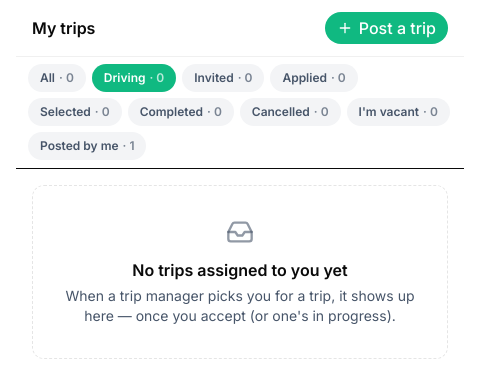
Test case: DriverActivityPage › the Posted tab lists the trips you posted yourself
Click the button "Posted by me · 1": coordinates (87, 146) [28,132,146,160]
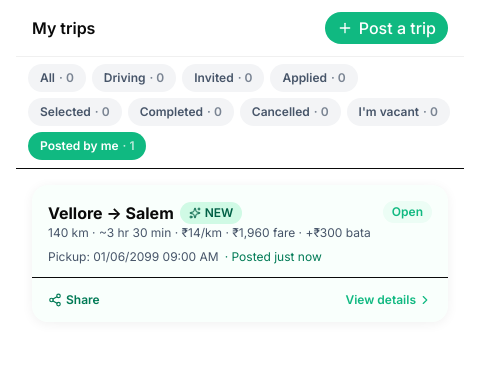
Check: the text "Vellore → Salem" is shown, box [48,201,174,225]
